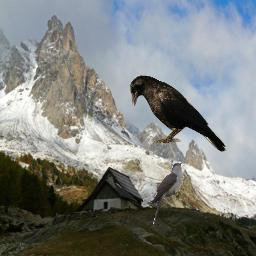Crow: (130, 75, 227, 152)
Cuckoo: (150, 162, 183, 226)
